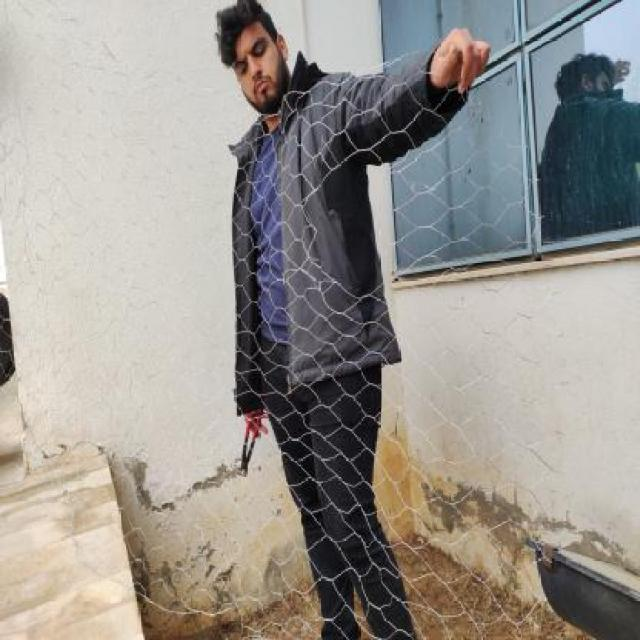fence line: (482, 61, 633, 474), (310, 162, 392, 296), (140, 594, 251, 638)
